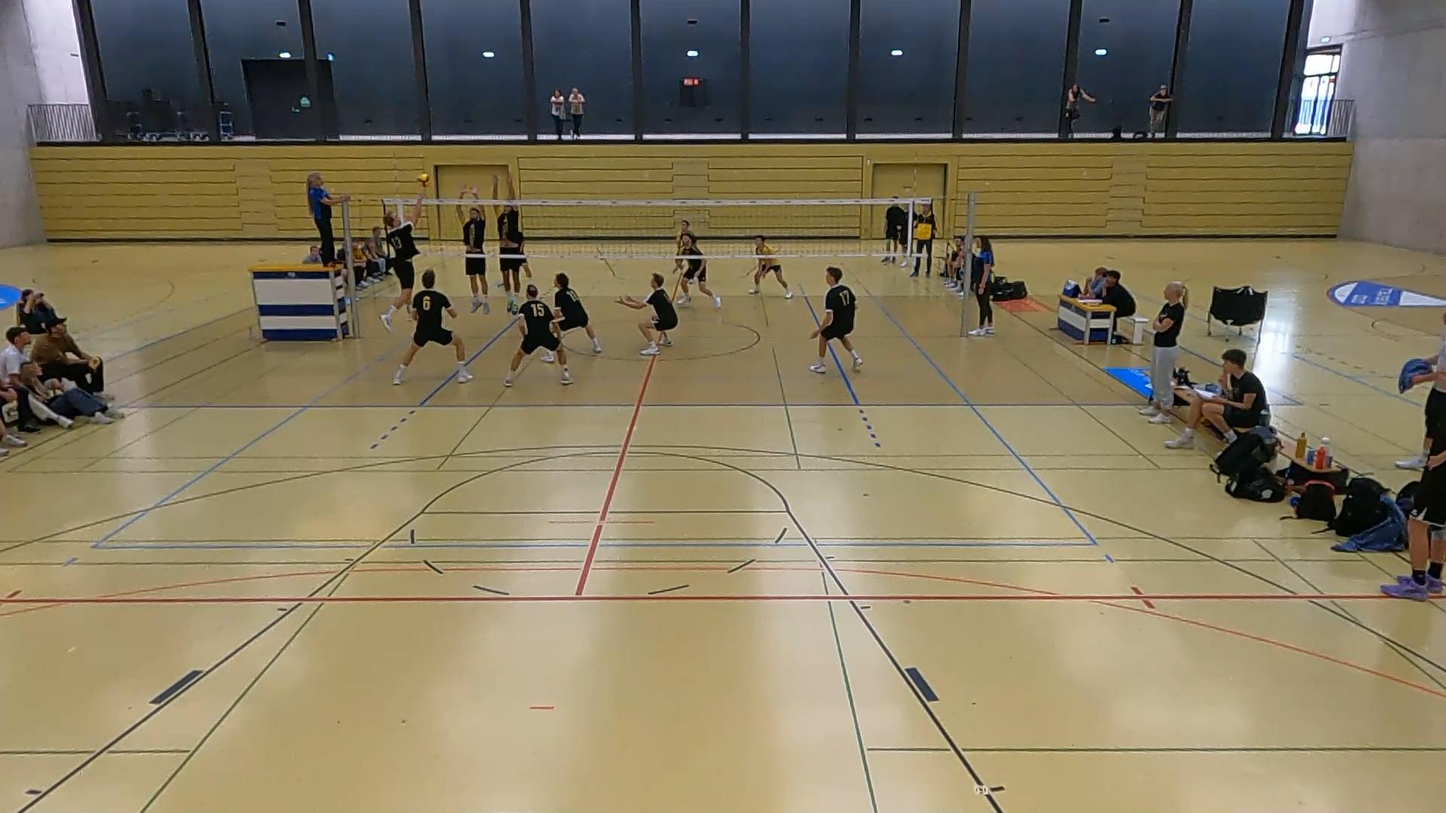Attack: (375, 195, 440, 330)
Block: (453, 181, 495, 318), (495, 163, 525, 315)
Player: (393, 270, 472, 384), (504, 285, 572, 386), (809, 266, 862, 373), (617, 273, 677, 355), (554, 273, 601, 353), (676, 234, 721, 308), (749, 235, 792, 298), (675, 221, 697, 272)
ball: (415, 172, 434, 190)
